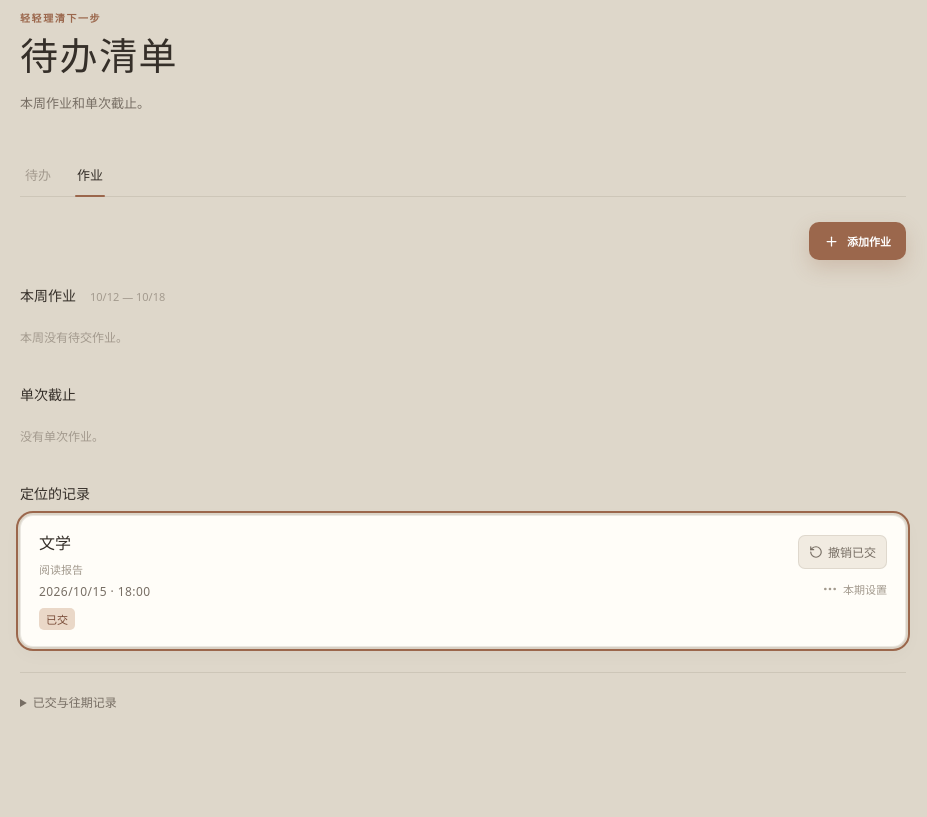
Test case: minimal assignment paper UI › edits a single date in place, keeping its original key and submission record
(page scrolled)
Click the heading "本期设置" at coordinates (854, 589), box left=822, top=581, right=887, bottom=597
(page scrolled)
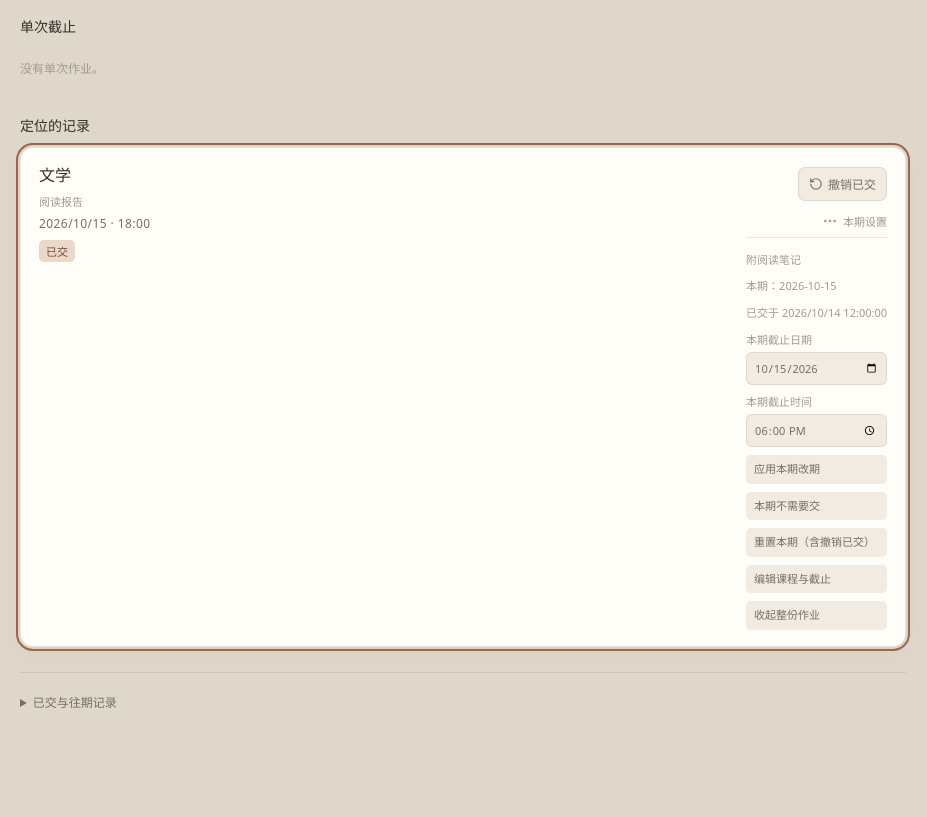
Click the button "编辑课程与截止" at coordinates (817, 579), box left=746, top=565, right=887, bottom=593
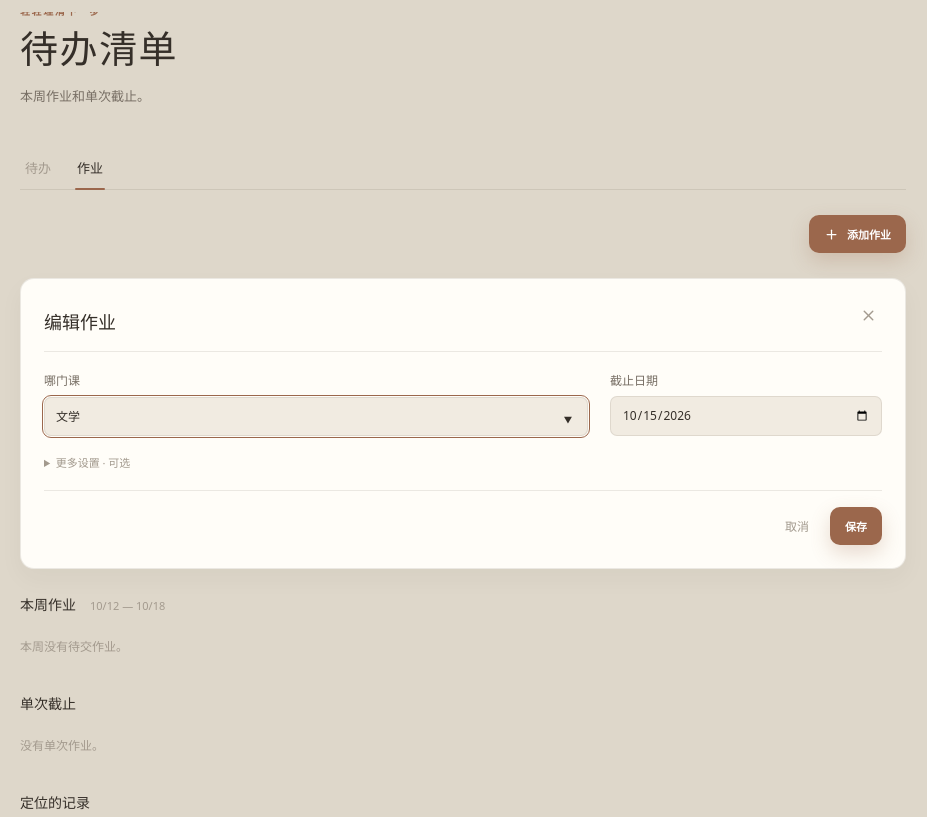
Type "2026-10-17" into the date field labelled "截止日期" at coordinates (746, 416), box left=610, top=396, right=882, bottom=436
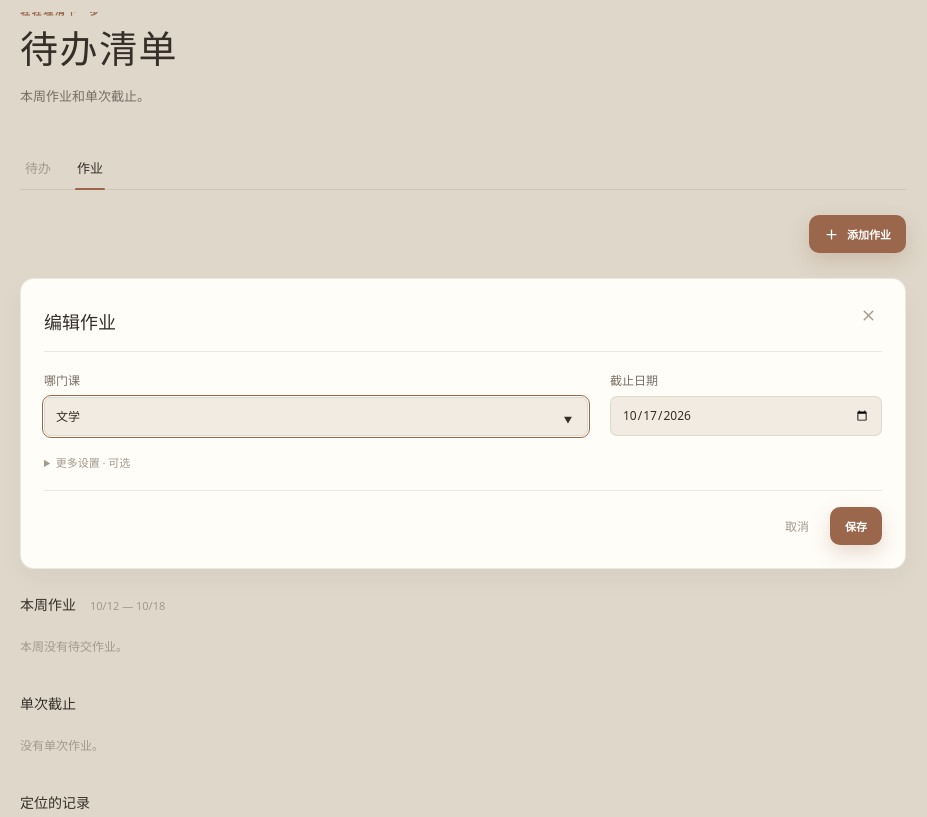
Submit the form "编辑作业", box left=20, top=278, right=906, bottom=569
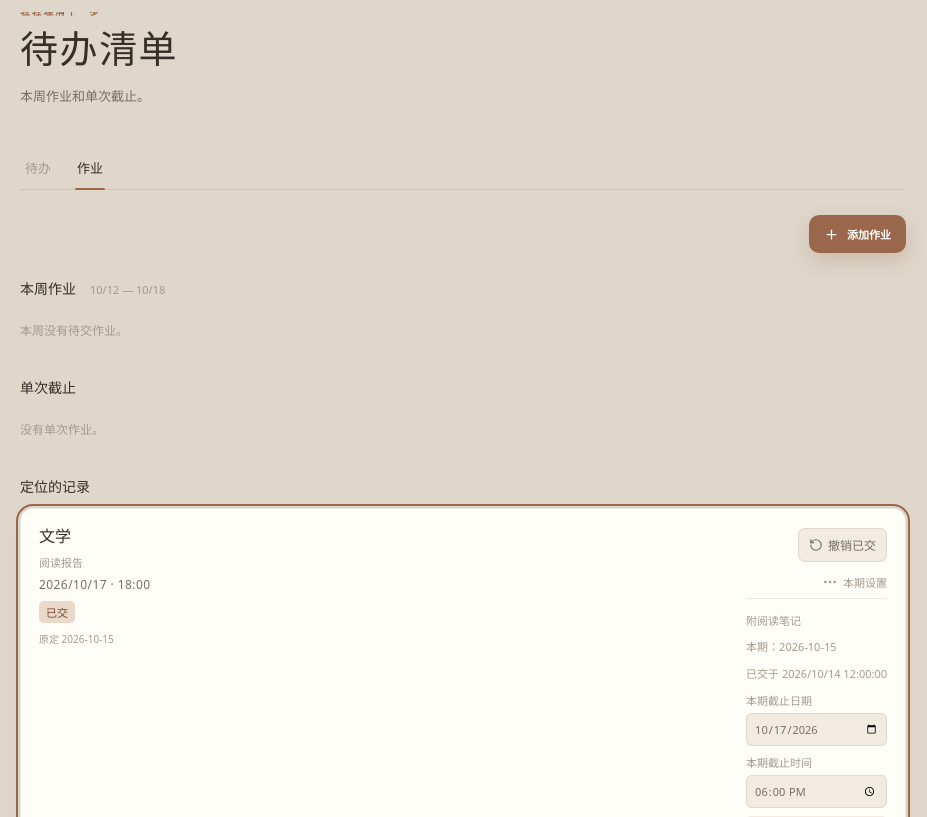
Expected: the text "附阅读笔记" is shown, left=746, top=613, right=801, bottom=628
Expected: the date field labelled "本期截止日期" holds "2026-10-17", left=746, top=713, right=887, bottom=746
